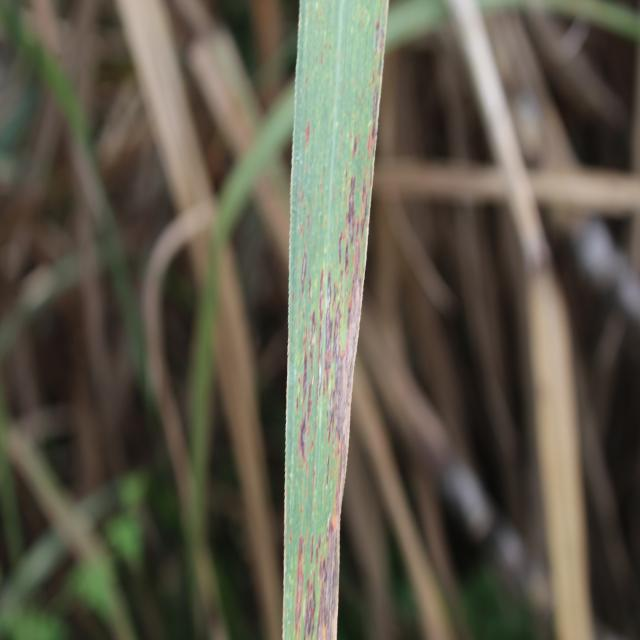Sugarcane: (279, 0, 388, 640)
